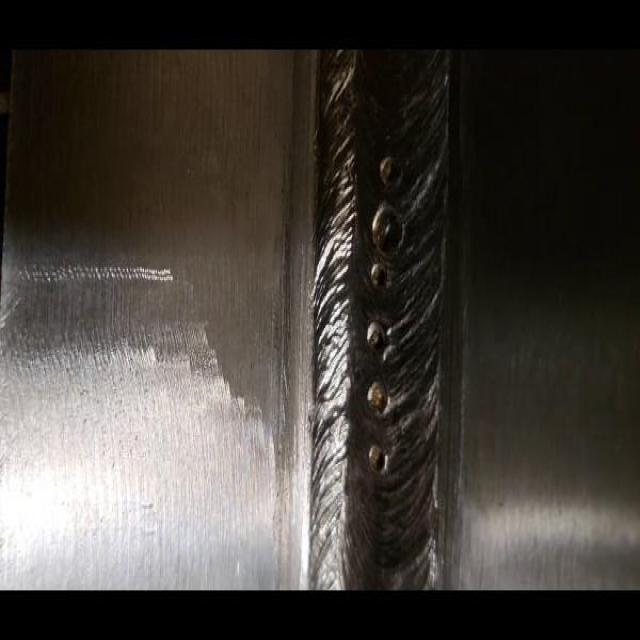Welding Line: (315, 44, 440, 590)
Workpiece: (0, 51, 640, 592)
porosity: (365, 153, 405, 479)
